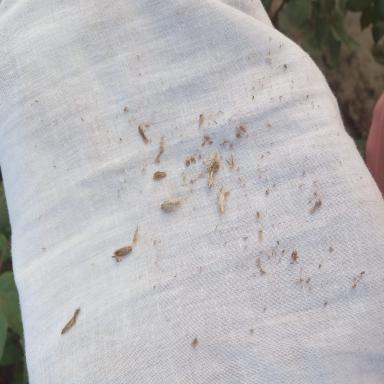pbw: (160, 198, 182, 214), (113, 242, 132, 260), (205, 149, 219, 171), (217, 185, 227, 214), (207, 165, 215, 189)
